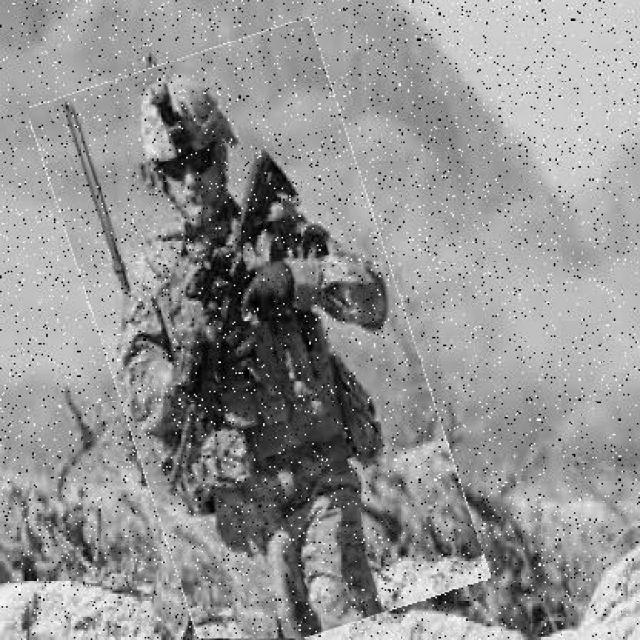Person: (70, 34, 450, 640)
